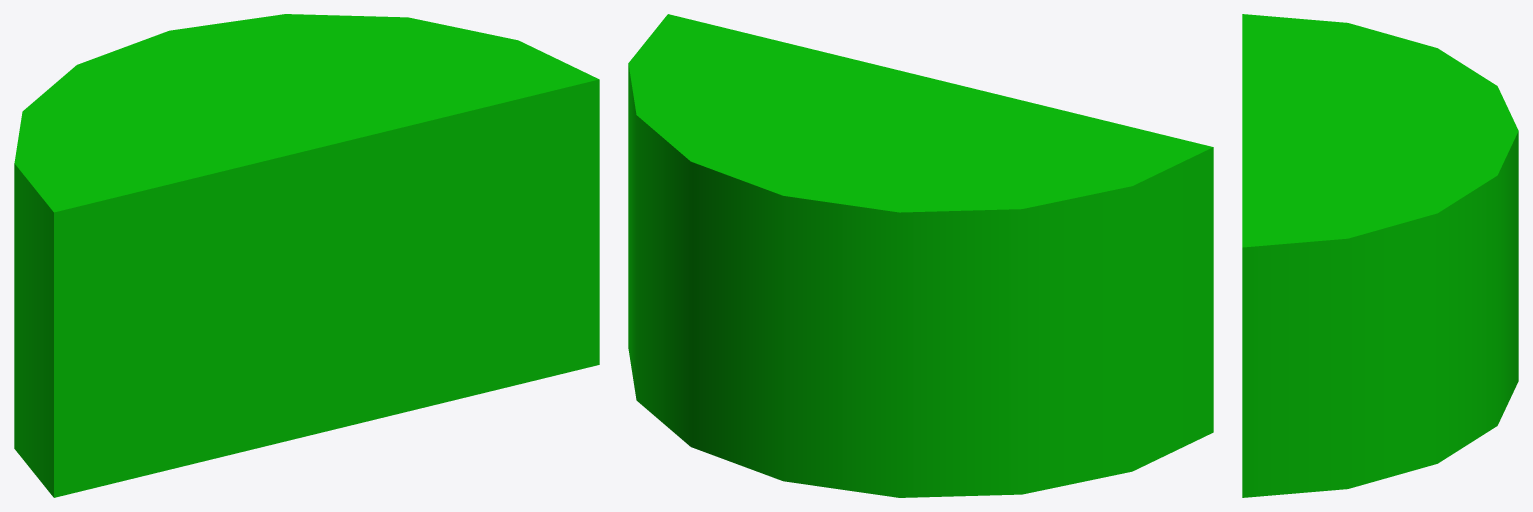
Rendered from UCXKugelbahn.52.fbx.
The picture shows the model from 3 angles, left to right: view 1: azimuth 30°, elevation 25°; view 2: azimuth 150°, elevation 25°; view 3: azimuth 270°, elevation 25°; orthographic projection. The views are drawn at different scales.
Parts seen in each view (by area): view 1: UCX_Kugelbahn.52_low; view 2: UCX_Kugelbahn.52_low; view 3: UCX_Kugelbahn.52_low.
Boxes of the visible parts, x1,y1,x2,y2 form: UCX_Kugelbahn.52_low: [14, 14, 599, 497]; UCX_Kugelbahn.52_low: [628, 14, 1213, 497]; UCX_Kugelbahn.52_low: [1242, 14, 1518, 497].
Size of the model in its own units: 0.05 by 0.025 by 0.025.
